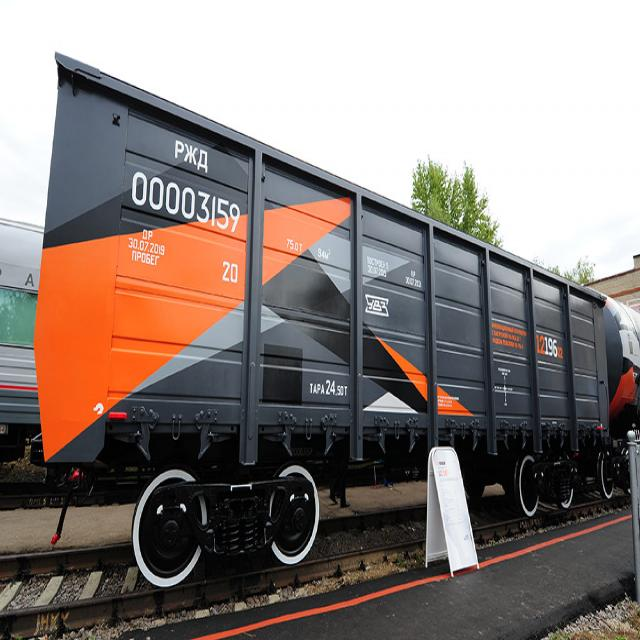gondola: (21, 39, 621, 612)
tank: (602, 268, 640, 465)
